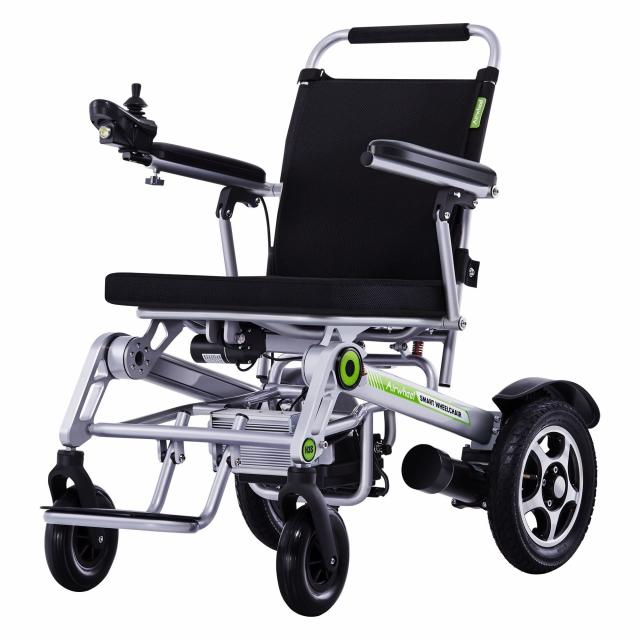wheelchair: (31, 16, 614, 625)
